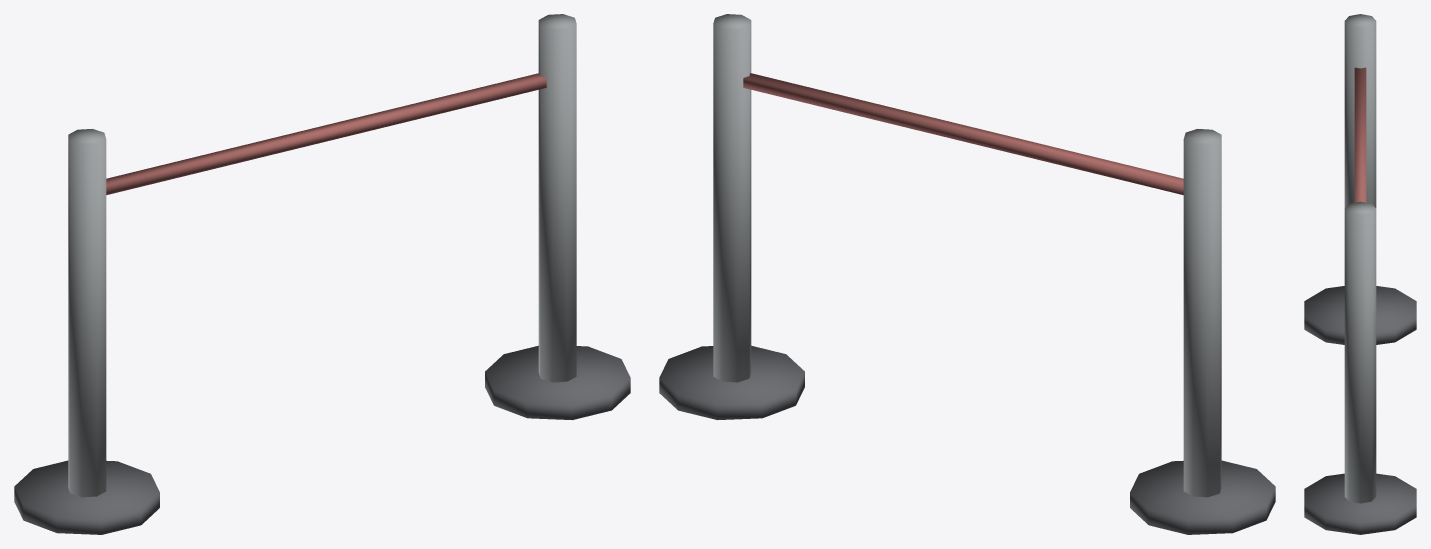
Rendered from museum_rope_barrier__squat.glb.
The picture shows the model from 3 angles, left to right: view 1: azimuth 30°, elevation 25°; view 2: azimuth 150°, elevation 25°; view 3: azimuth 270°, elevation 25°; orthographic projection. The views are drawn at different scales.
Visible parts, largest first — view 1: world; view 2: world; view 3: world.
Boxes of the visible parts, x1,y1,x2,y2 form: world: (14,14,630,534); world: (659,14,1275,534); world: (1304,14,1416,534).
Bounding box in the file's own units: 1.34 × 0.7896 × 0.2671.
